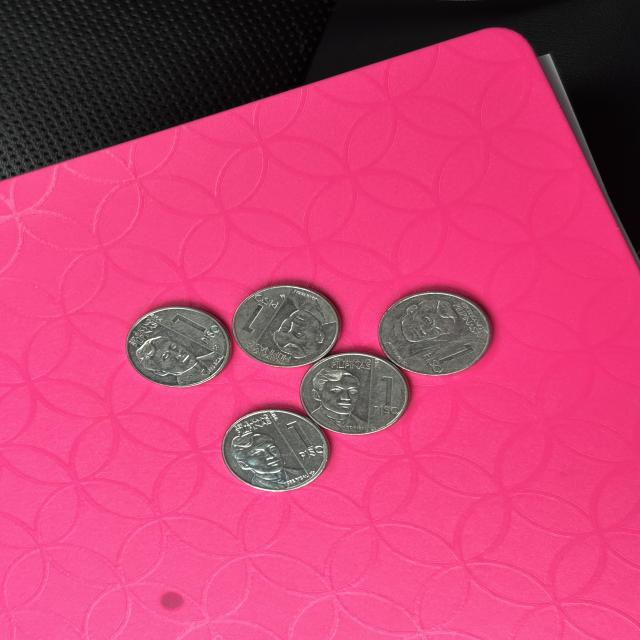1_New_Front: (277, 417, 323, 462), (165, 310, 225, 340), (419, 340, 472, 371), (240, 288, 269, 337), (370, 372, 398, 414)
